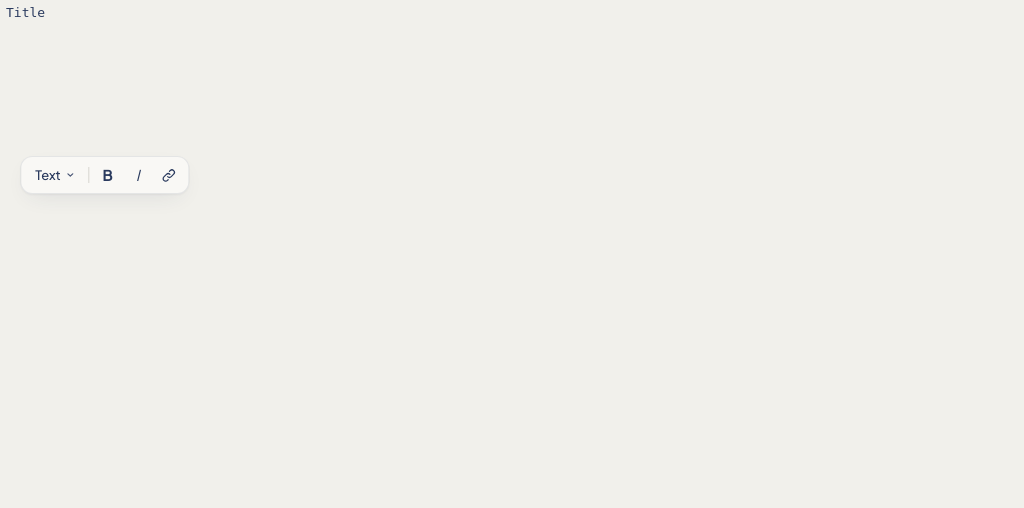
Test: SelectionToolbar › turns the selected line into another block type from the Turn into menu
This screenshot has width=1024, height=508.
Step 1. Click the button with aria-label "Turn into" → (55, 175), box [25, 161, 85, 189]
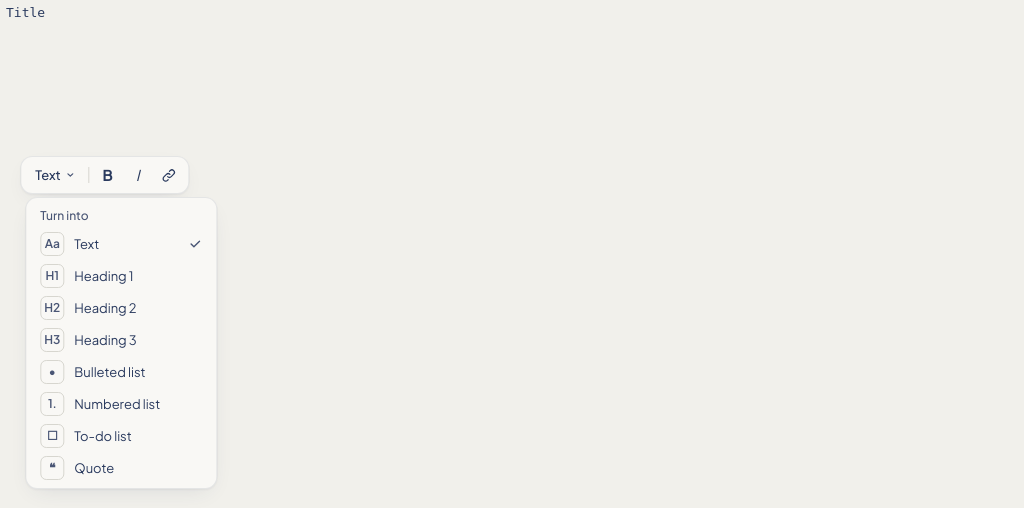
Step 2. Click the menu item "H2 Heading 2" → (121, 308), box [30, 292, 212, 324]
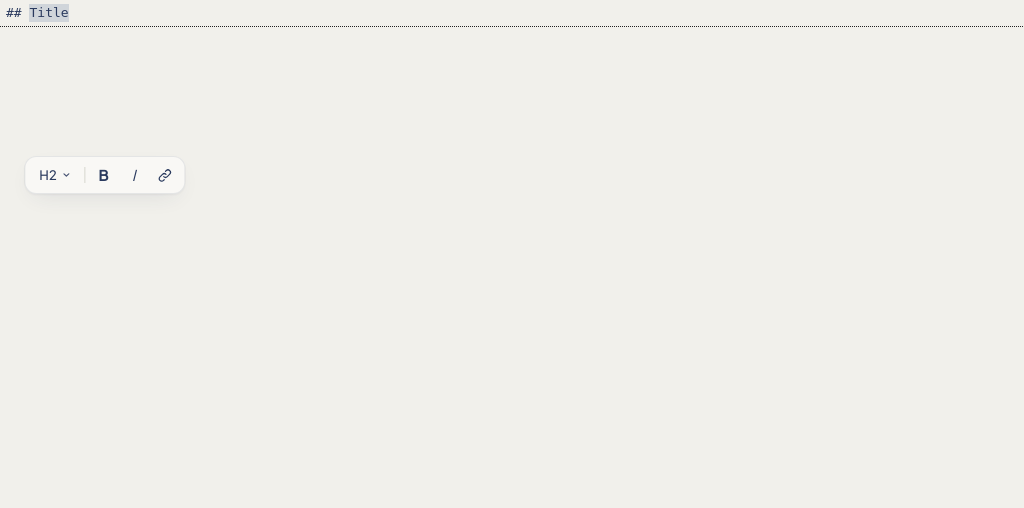
expect the text box labelled "## Title" is shown: met, box [6, 5, 69, 20]
expect the menu is gone: met
